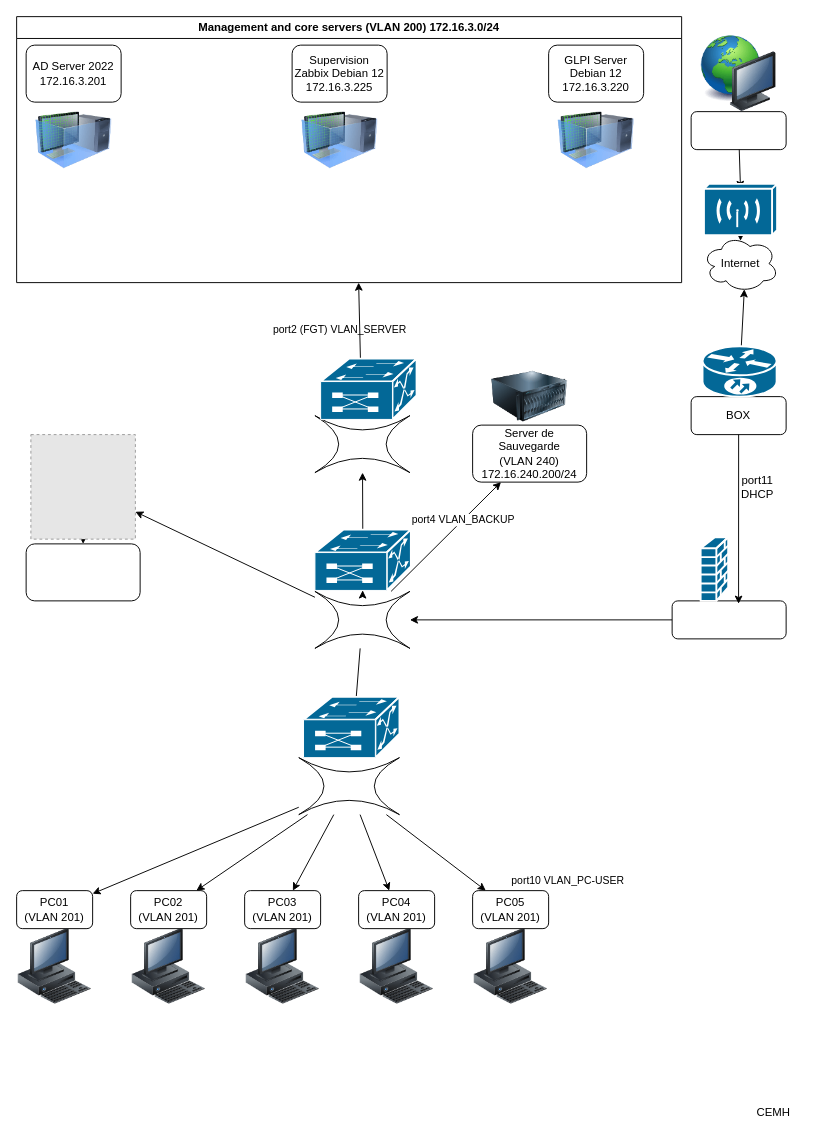
This 819x1144 diagram has some shape labels left out. Grey dashed boxes stand in for pictures. Here are the shapes that lost their labels. From the top down, the centre of each, then its label:
point 738,130: VPN Forticient
point 362,444: Farm Switch Stack
point 82,572: NAS Synology (VLAN 250) 172.16.250.250/24
point 362,619: Core Switch Stack
point 728,619: Pare-Feu Stormshield
point 348,786: Access Switch 192.168.3.0/24
